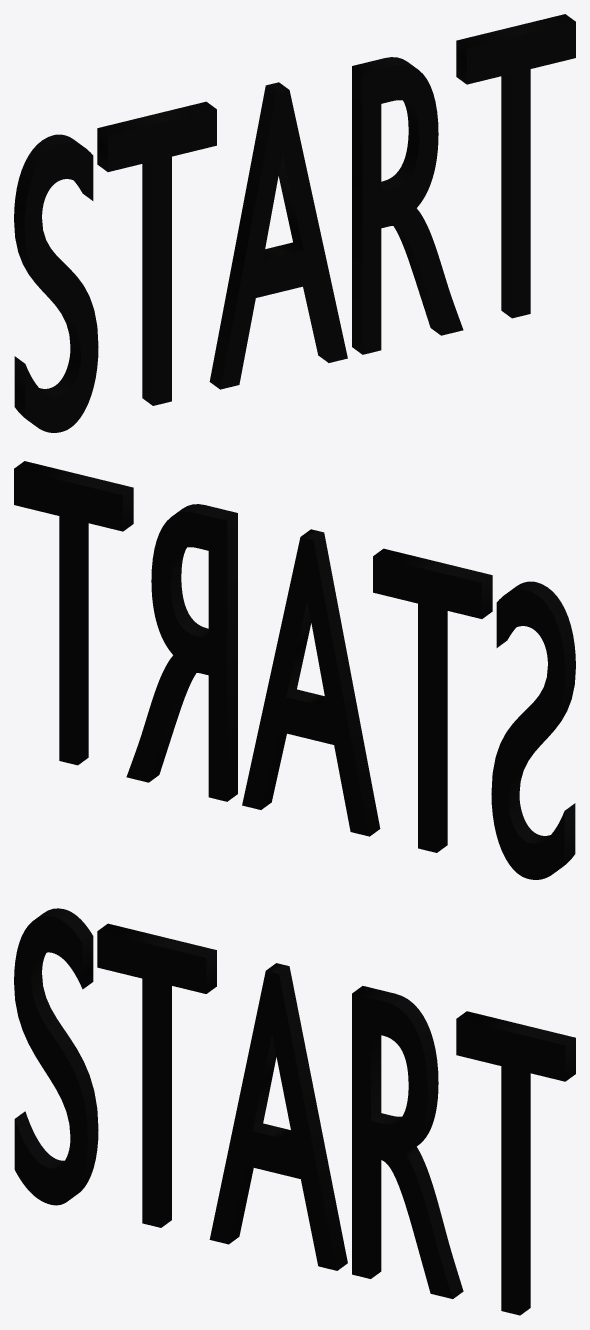
The model's file is SignBoardName.obj.
The picture shows the model from 3 angles, top to bottom: view 1: azimuth 30°, elevation 25°; view 2: azimuth 150°, elevation 25°; view 3: azimuth 330°, elevation 25°; orthographic projection.
Parts seen in each view (by area): view 1: テキスト; view 2: テキスト; view 3: テキスト.
Boxes of the visible parts, x1,y1,x2,y2 form: テキスト: [14, 14, 575, 432]; テキスト: [14, 461, 575, 879]; テキスト: [14, 908, 575, 1315].
Size of the model in its own units: 0.6 by 0.3 by 0.02.
1 material, 1 textured.
